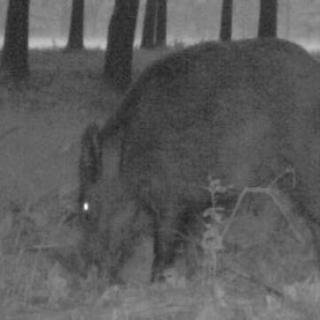Pig: (66, 31, 320, 291)
